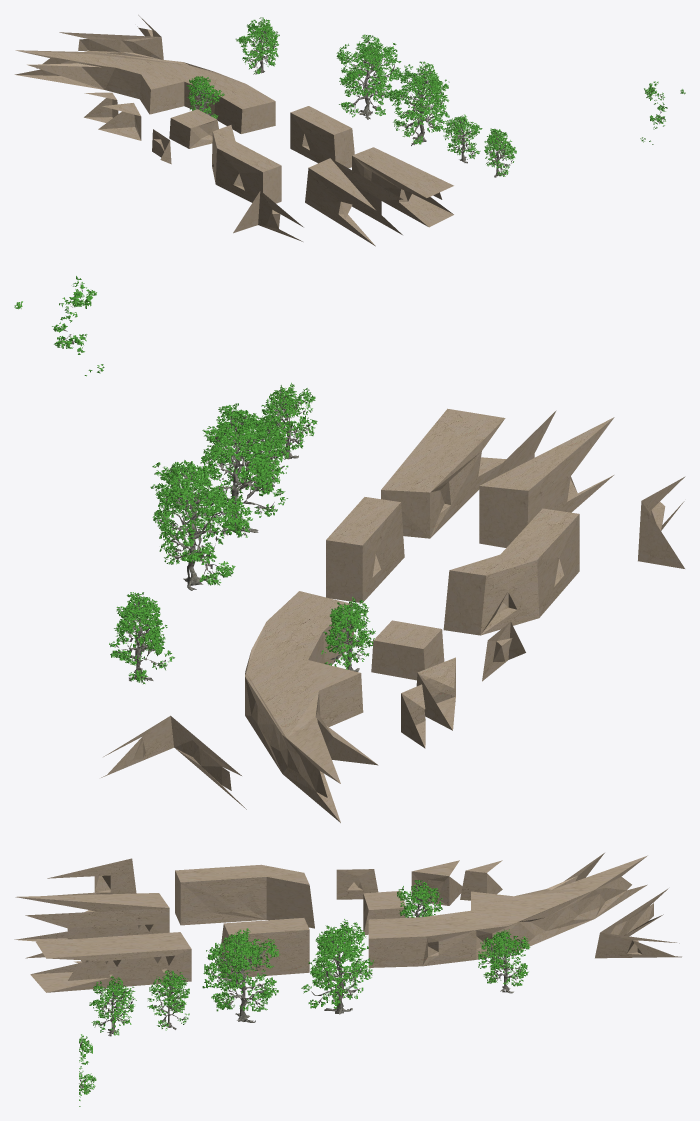
The model's file is tile_-1_0.gltf.
The picture shows the model from 3 angles, top to bottom: view 1: azimuth 30°, elevation 25°; view 2: azimuth 150°, elevation 25°; view 3: azimuth 270°, elevation 25°; orthographic projection. The views are drawn at different scales.
Parts seen in each view (by area): view 1: Plane.011@tile_-1_0, Bodhi Tree_Bodhi_front_2_Mat_0.044@tile_-1_0; view 2: Plane.011@tile_-1_0, Bodhi Tree_Bodhi_front_2_Mat_0.044@tile_-1_0; view 3: Plane.011@tile_-1_0, Bodhi Tree_Bodhi_front_2_Mat_0.044@tile_-1_0.
Part boxes in pixels (x1=…): Plane.011@tile_-1_0: x1=14, y1=15, x2=453, y2=246; Bodhi Tree_Bodhi_front_2_Mat_0.044@tile_-1_0: x1=186, y1=17, x2=685, y2=177; Plane.011@tile_-1_0: x1=101, y1=408, x2=685, y2=822; Bodhi Tree_Bodhi_front_2_Mat_0.044@tile_-1_0: x1=14, y1=276, x2=375, y2=683; Plane.011@tile_-1_0: x1=14, y1=853, x2=681, y2=992; Bodhi Tree_Bodhi_front_2_Mat_0.044@tile_-1_0: x1=79, y1=880, x2=530, y2=1106.
Bounding box in the file's own units: 102 × 17.45 × 113.
3 materials, 2 textured.
